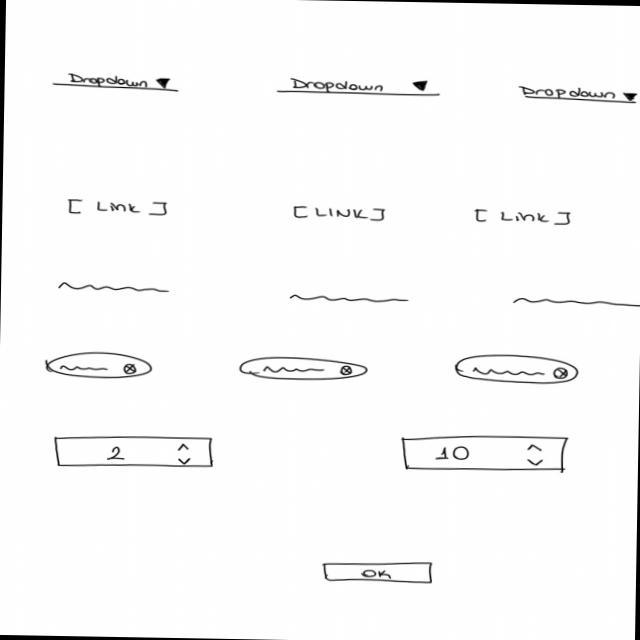button: (322, 559, 434, 584)
link: (472, 206, 574, 228), (65, 198, 168, 218), (293, 204, 387, 221)
number-input: (400, 433, 568, 474), (51, 433, 214, 471)
select: (274, 75, 443, 97), (50, 70, 180, 92), (516, 82, 640, 104)
text: (508, 294, 640, 308), (56, 280, 171, 295), (286, 292, 414, 304)
